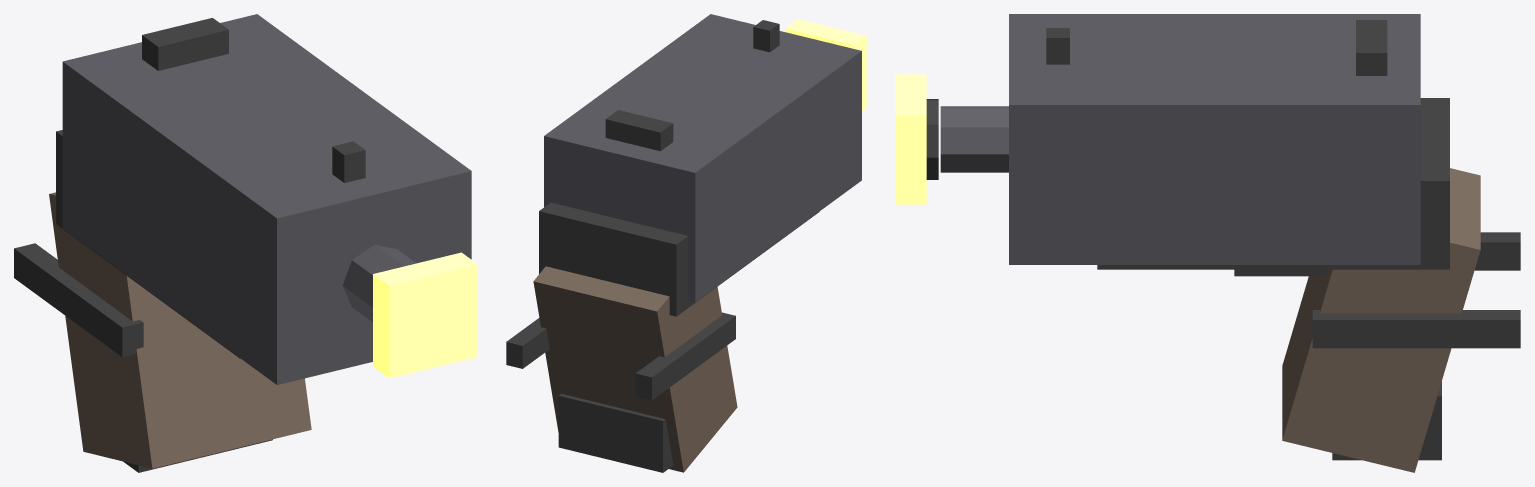
The model's file is gun.glb.
3 views of the same model, side by side, from view 1: azimuth 30°, elevation 25°; view 2: azimuth 150°, elevation 25°; view 3: azimuth 270°, elevation 25° (orthographic). The views are drawn at different scales.
Parts seen in each view (by area): view 1: Gun; view 2: Gun; view 3: Gun.
Part boxes in pixels (bbox=[...]): Gun: bbox=[14, 14, 477, 472]; Gun: bbox=[506, 14, 866, 472]; Gun: bbox=[895, 14, 1520, 472].
Bounding box in the file's own units: 0.11 × 0.2268 × 0.319.
